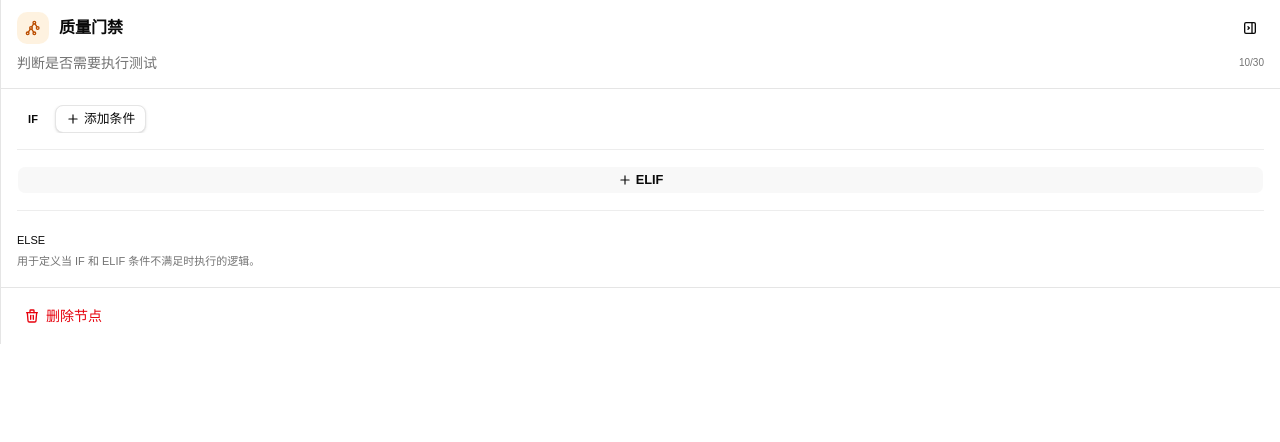
WorkflowInspector kind-specific layouts › starts IF empty and adds a fully blank condition row
The image size is (1280, 442).
Step 1. Click the button "添加条件" → x=101, y=119, box [55,105,146,133]
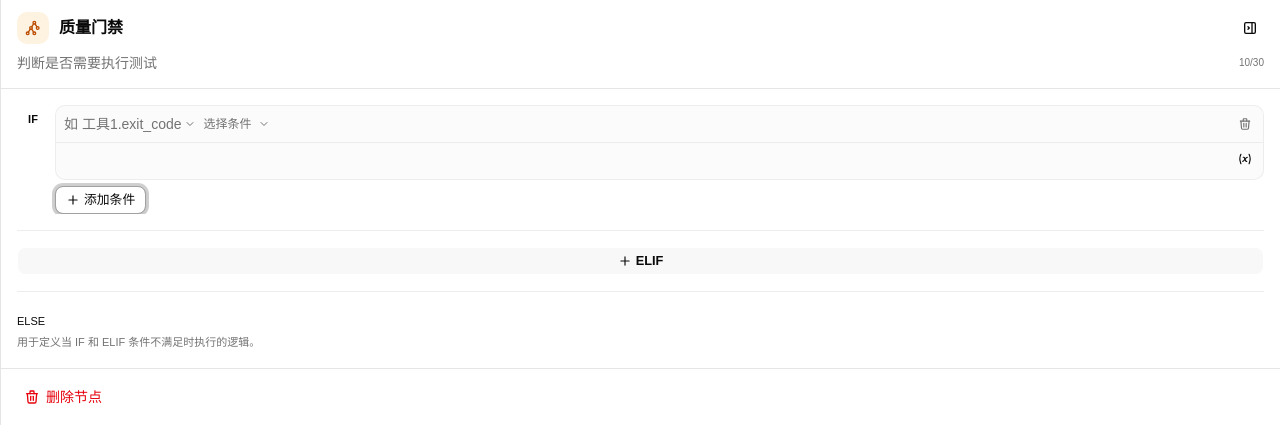
Check: the dropdown named "变量 1" shows "如 工具1.exit_code", box [60,108,198,140]
Check: the dropdown named "条件 1" shows "选择条件", box [200,110,274,138]
